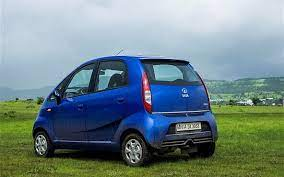Nano: (30, 56, 216, 168)
